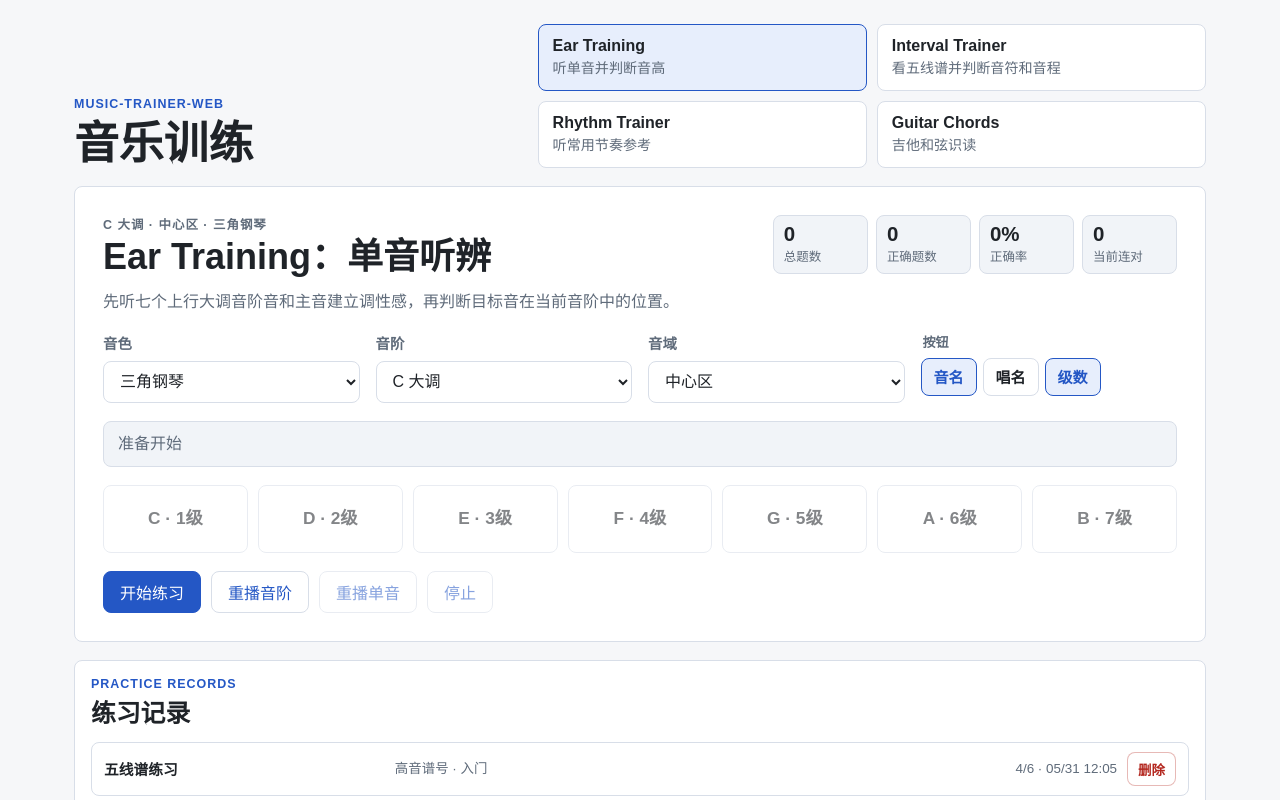
Scenario: App › shows practice records below the active trainer and allows deleting a record
The width and height of the screenshot is (1280, 800).
Expected: the heading "练习记录" is shown, [91, 700, 190, 727]
Expected: the element named "逐条练习记录" shows "五线谱练习", [104, 762, 178, 778]
Click the button "删除" at (1152, 769), box [1127, 752, 1176, 786]
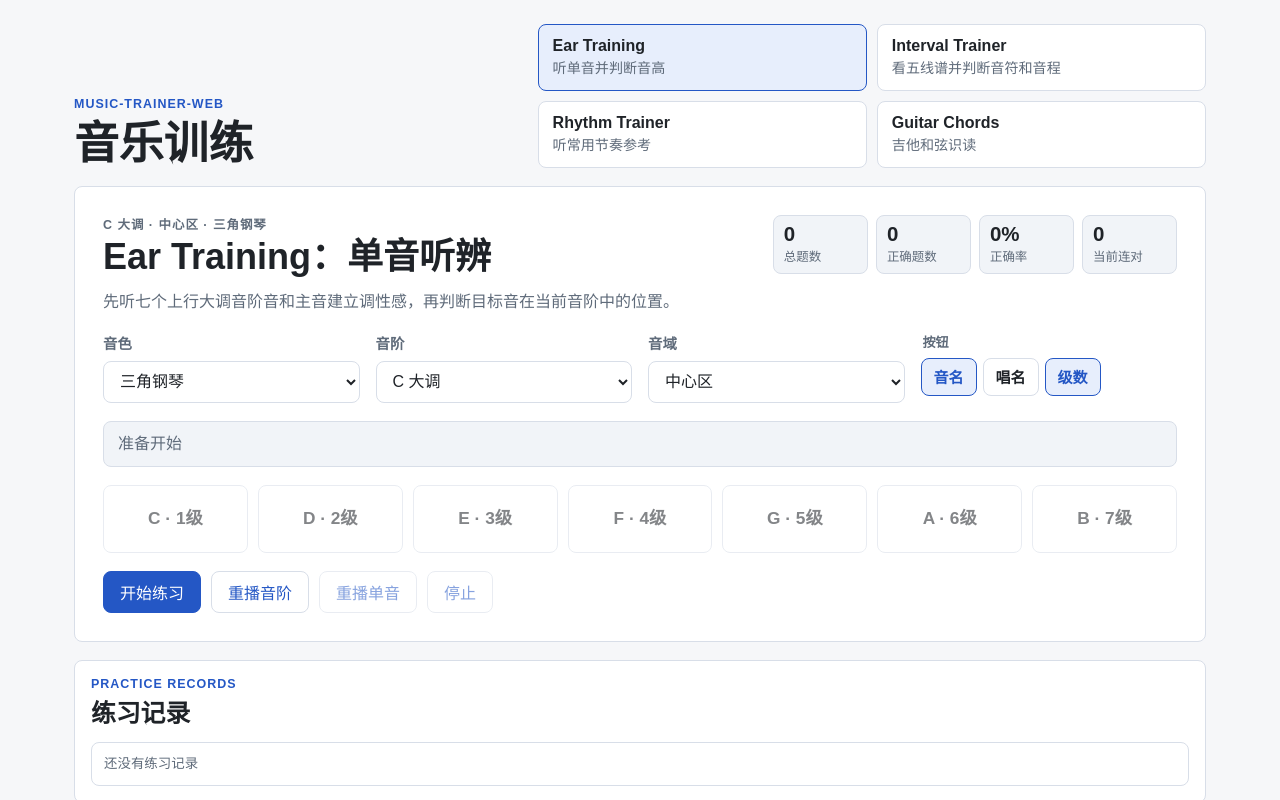
Now the element named "逐条练习记录" reads "还没有练习记录", box [104, 756, 198, 771]
